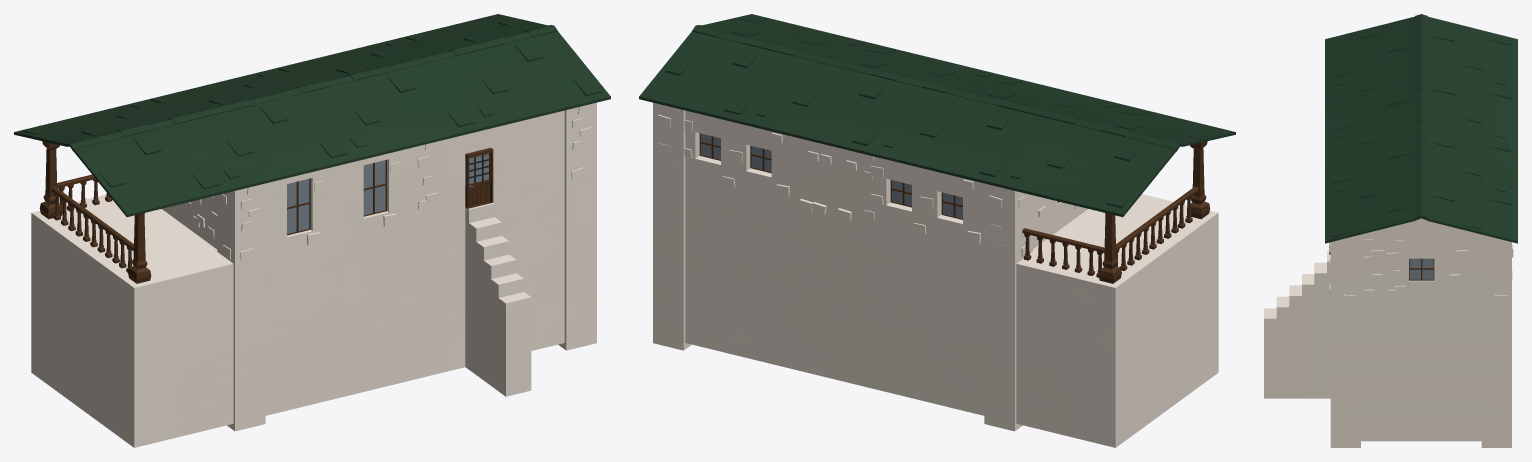
3 renders of one model, left to right at view 1: azimuth 30°, elevation 25°; view 2: azimuth 150°, elevation 25°; view 3: azimuth 270°, elevation 25°, orthographic. The views are drawn at different scales.
Parts seen in each view (by area): view 1: 8.001; view 2: 8.001; view 3: 8.001.
Part boxes in pixels (box(x1,y1,x2,y2)): 8.001: box(14, 14, 610, 447); 8.001: box(639, 14, 1235, 447); 8.001: box(1264, 14, 1517, 447).
Bounding box in the file's own units: 38.03 × 20.75 × 20.17.
4 materials, 1 textured.
